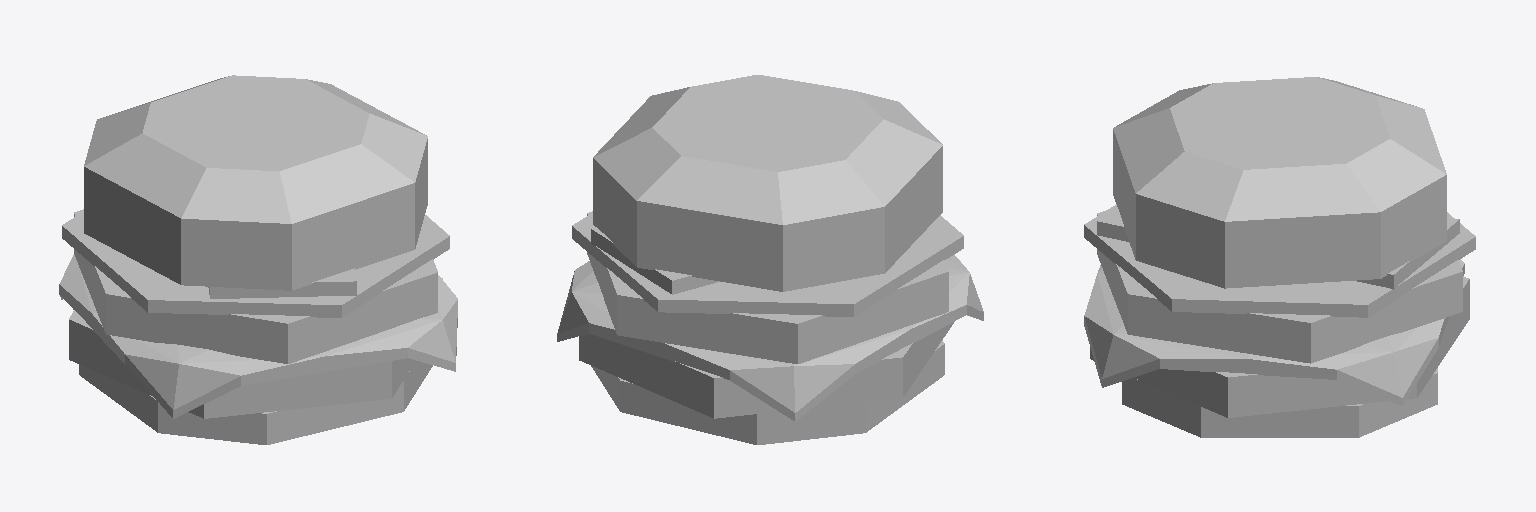
The model's file is burger1.obj.
3 views of the same model, side by side, from view 1: azimuth 30°, elevation 25°; view 2: azimuth 150°, elevation 25°; view 3: azimuth 270°, elevation 25° (orthographic).
Visible parts, largest first — view 1: burgar_props:group3_pCylinder2_Mesh.004; view 2: burgar_props:group3_pCylinder2_Mesh.004; view 3: burgar_props:group3_pCylinder2_Mesh.004.
Part boxes in pixels (x1,y1,x2,y2): burgar_props:group3_pCylinder2_Mesh.004: (59, 75, 457, 444); burgar_props:group3_pCylinder2_Mesh.004: (557, 75, 983, 444); burgar_props:group3_pCylinder2_Mesh.004: (1084, 77, 1475, 437).
Size of the model in its own units: 0.0479 by 0.0367 by 0.0491.